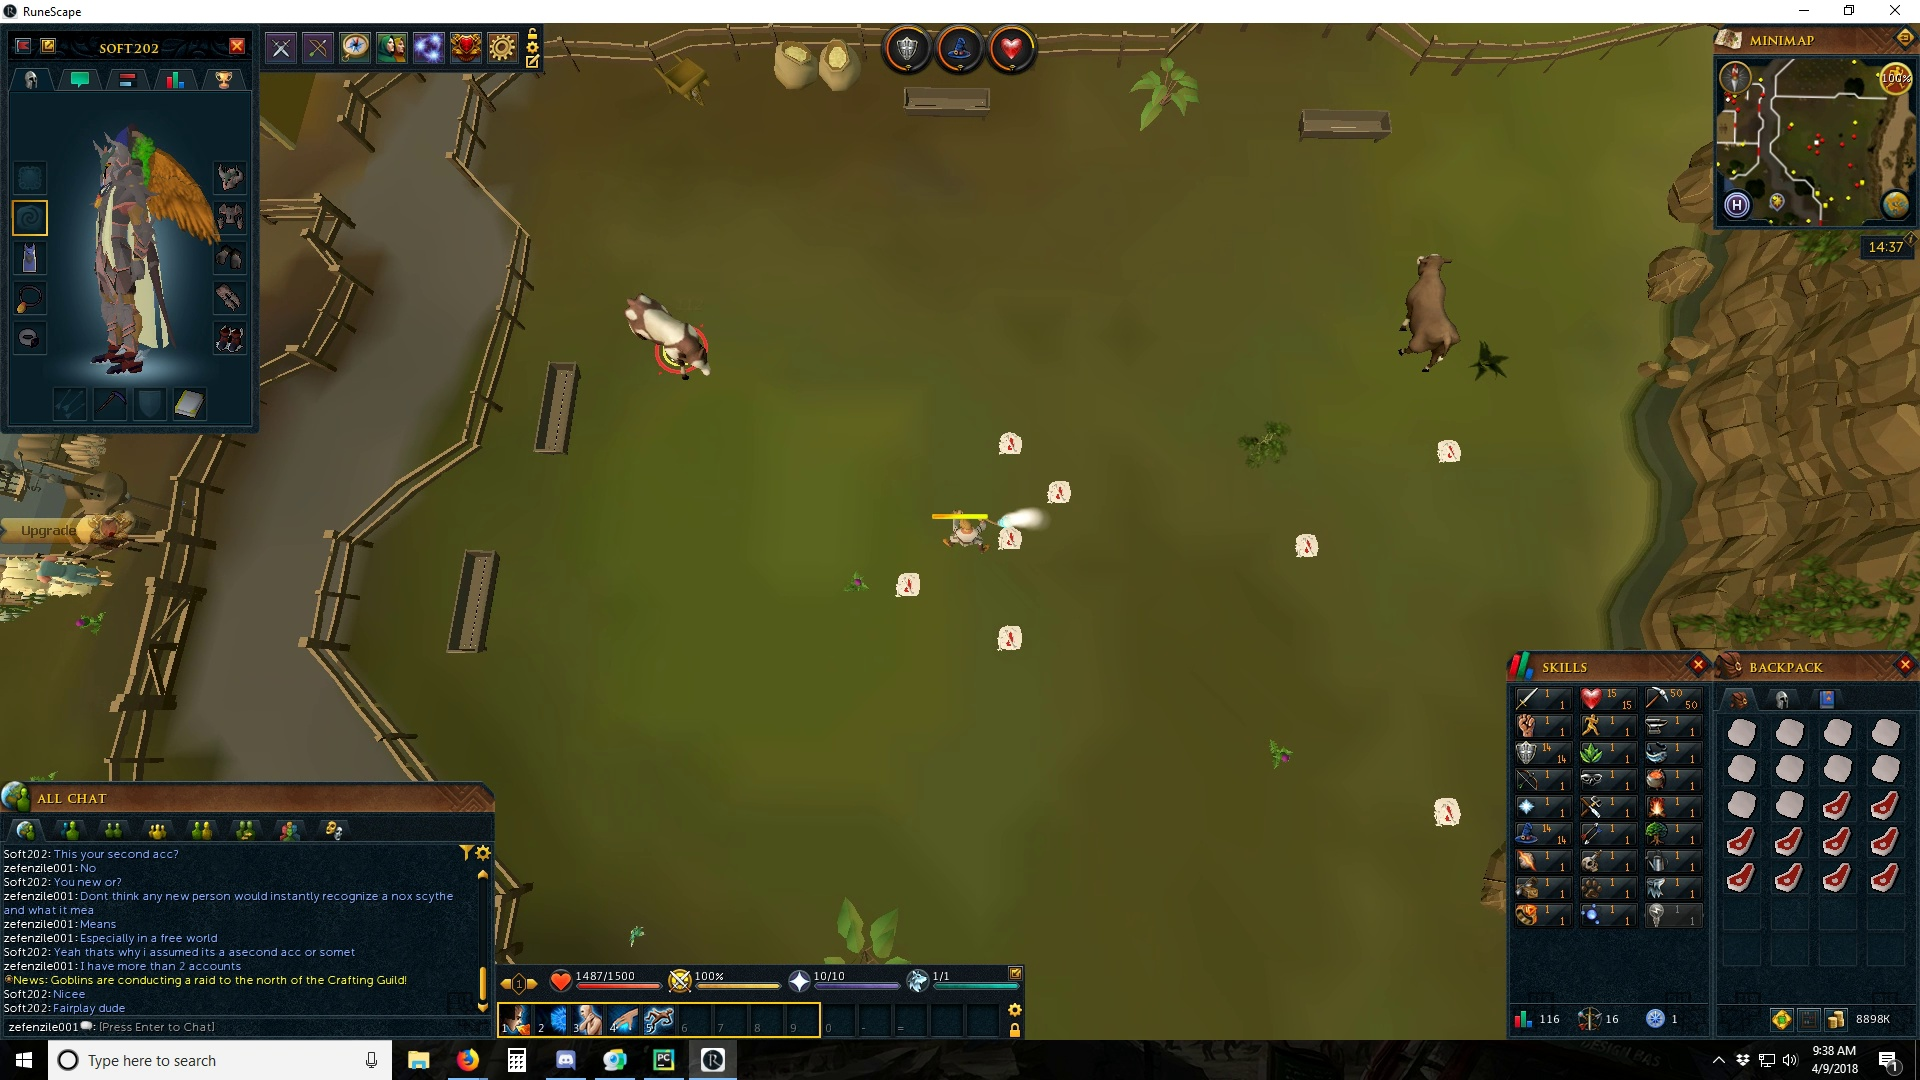cow: (1396, 253, 1465, 375), (621, 294, 713, 384)
cow_drop: (1428, 793, 1461, 831), (992, 622, 1029, 653), (1286, 531, 1323, 559), (1433, 436, 1464, 465), (992, 431, 1029, 455), (1044, 477, 1073, 506), (894, 574, 924, 601), (997, 517, 1023, 549)
